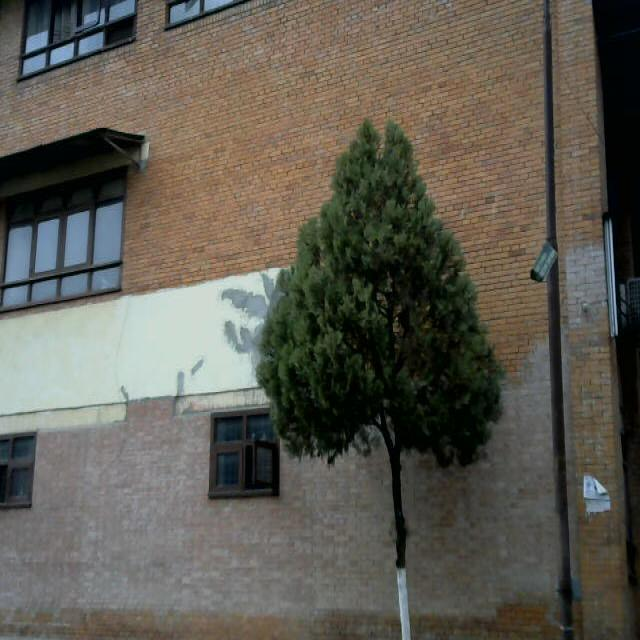Buildings: (0, 0, 367, 640)
Pole: (528, 0, 580, 640)
trees: (263, 113, 514, 640)
